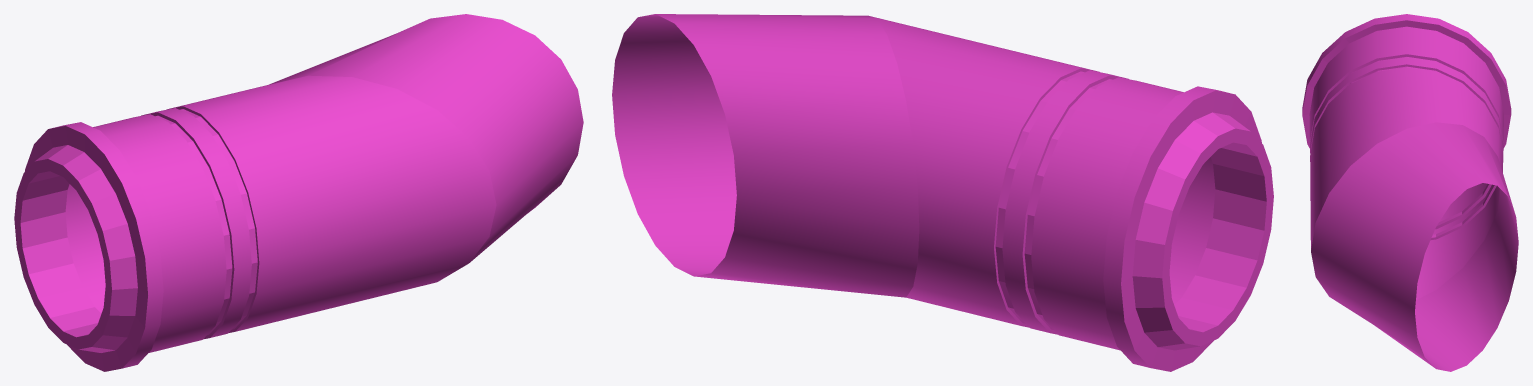
File: ShipThruster2.fbx
3 renders of one model, left to right at view 1: azimuth 30°, elevation 25°; view 2: azimuth 150°, elevation 25°; view 3: azimuth 270°, elevation 25°, orthographic. The views are drawn at different scales.
Visible parts, largest first — view 1: Thruster2; view 2: Thruster2; view 3: Thruster2.
Boxes of the visible parts, x1,y1,x2,y2 form: Thruster2: (14,14,583,371); Thruster2: (612,14,1273,371); Thruster2: (1302,14,1518,371).
Size of the model in its own units: 34.24 by 14.25 by 14.76.
